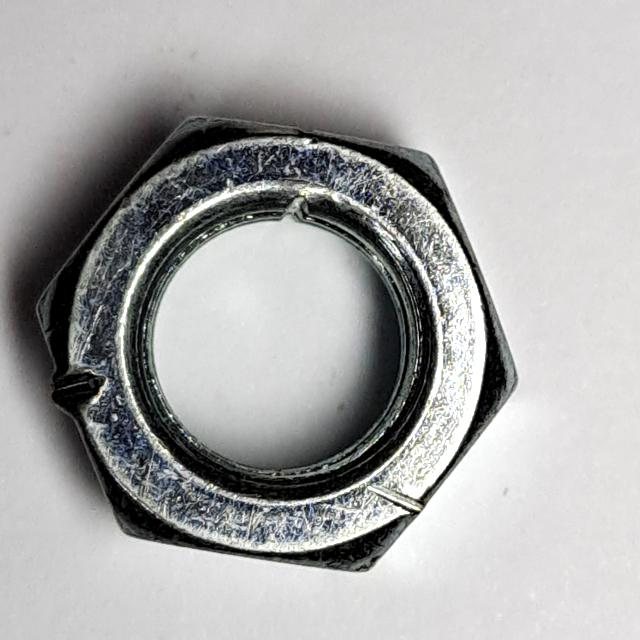Scratches: (30, 106, 525, 587)
